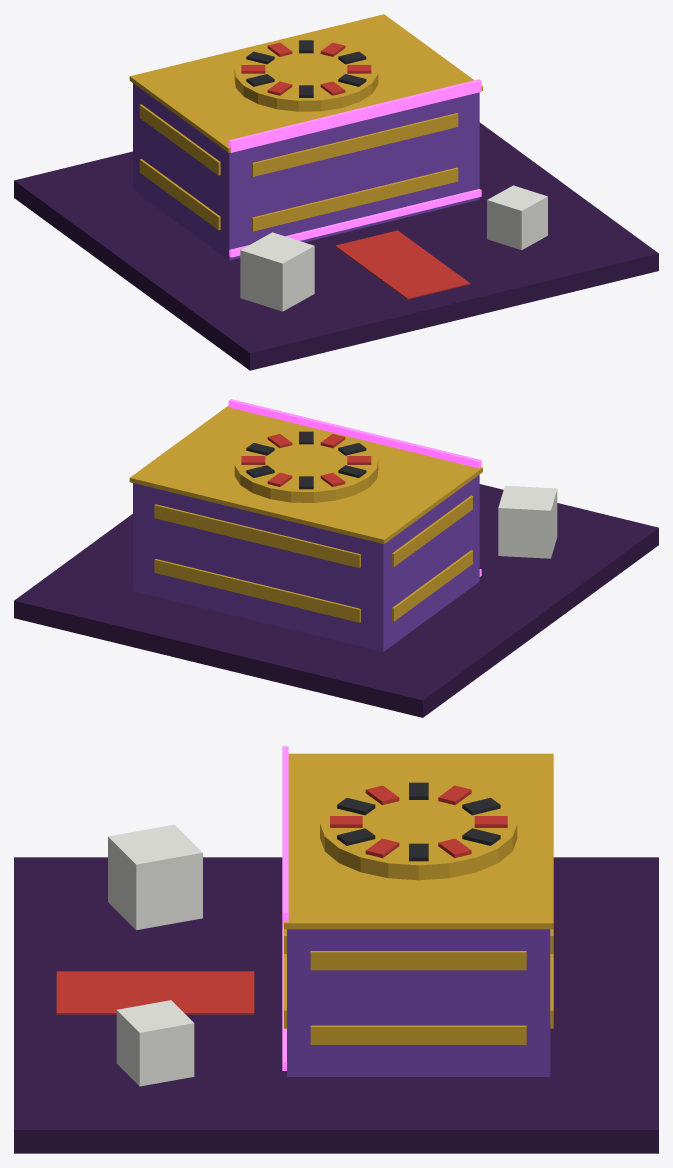
File: casino.glb
3 renders of one model, top to bottom at view 1: azimuth 30°, elevation 25°; view 2: azimuth 150°, elevation 25°; view 3: azimuth 270°, elevation 25°, orthographic. The views are drawn at different scales.
Parts seen in each view (by area): view 1: casino; view 2: casino; view 3: casino.
Part boxes in pixels (x1,y1,x2,y2): casino: [14, 14, 658, 370]; casino: [14, 399, 658, 717]; casino: [14, 746, 658, 1153].
Bounding box in the file's own units: 1.96 × 0.662 × 1.96.
